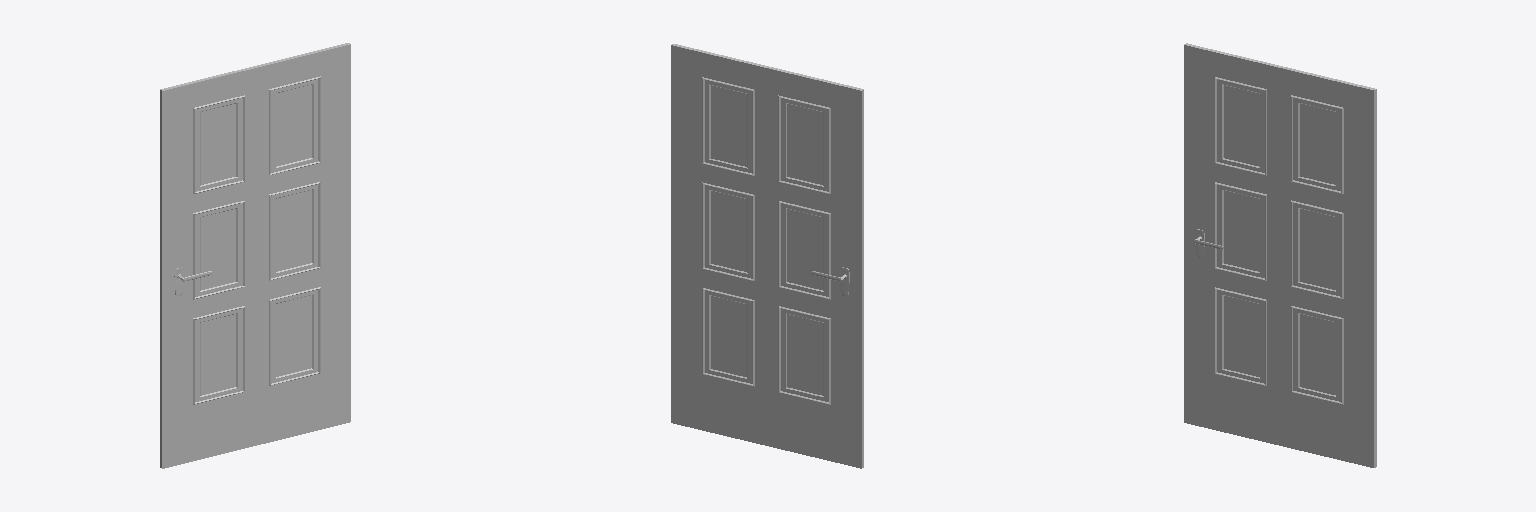
The model's file is PuertaIzq.obj.
The picture shows the model from 3 angles: view 1: azimuth 30°, elevation 25°; view 2: azimuth 150°, elevation 25°; view 3: azimuth 330°, elevation 25°; orthographic projection.
Parts seen in each view (by area): view 1: PuertaDerecha; view 2: PuertaDerecha; view 3: PuertaDerecha.
Part boxes in pixels (x1,y1,x2,y2): PuertaDerecha: (160, 43, 350, 468); PuertaDerecha: (671, 44, 863, 468); PuertaDerecha: (1184, 43, 1376, 467).
Size of the model in its own units: 1.36 by 2.59 by 0.164.